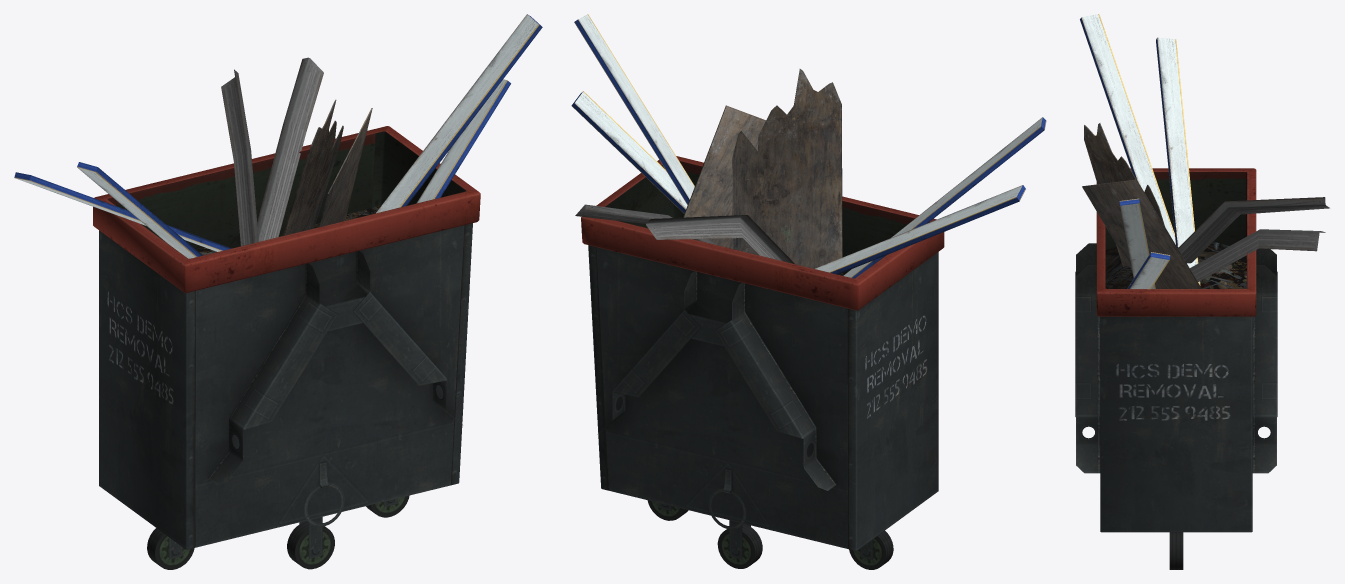
File: Trash_v2.FBX
3 renders of one model, left to right at view 1: azimuth 30°, elevation 25°; view 2: azimuth 150°, elevation 25°; view 3: azimuth 270°, elevation 25°, orthographic. The views are drawn at different scales.
Visible parts, largest first — view 1: Trash_v2; view 2: Trash_v2; view 3: Trash_v2.
Part boxes in pixels (x1,y1,x2,y2): Trash_v2: (14, 14, 542, 569); Trash_v2: (571, 14, 1046, 569); Trash_v2: (1075, 14, 1329, 569).
Bounding box in the file's own units: 0.6058 × 0.5672 × 0.3129.
